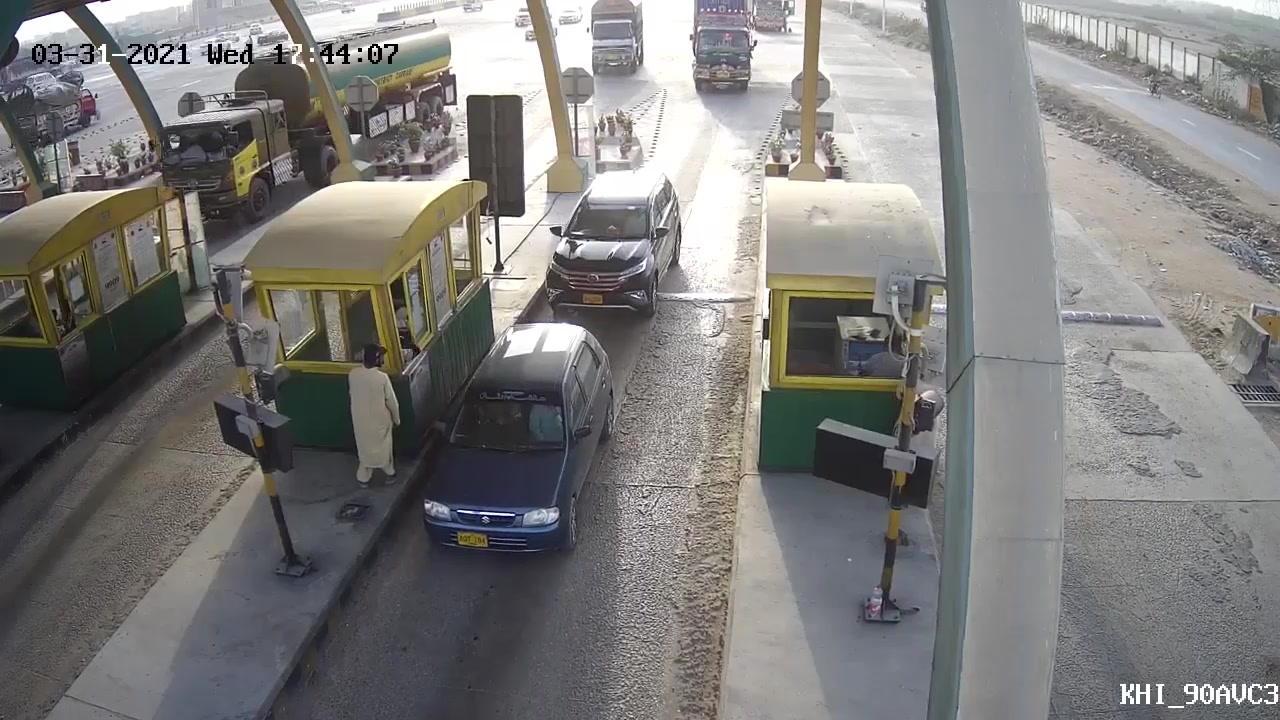F1: (418, 321, 614, 562), (538, 151, 685, 316)
